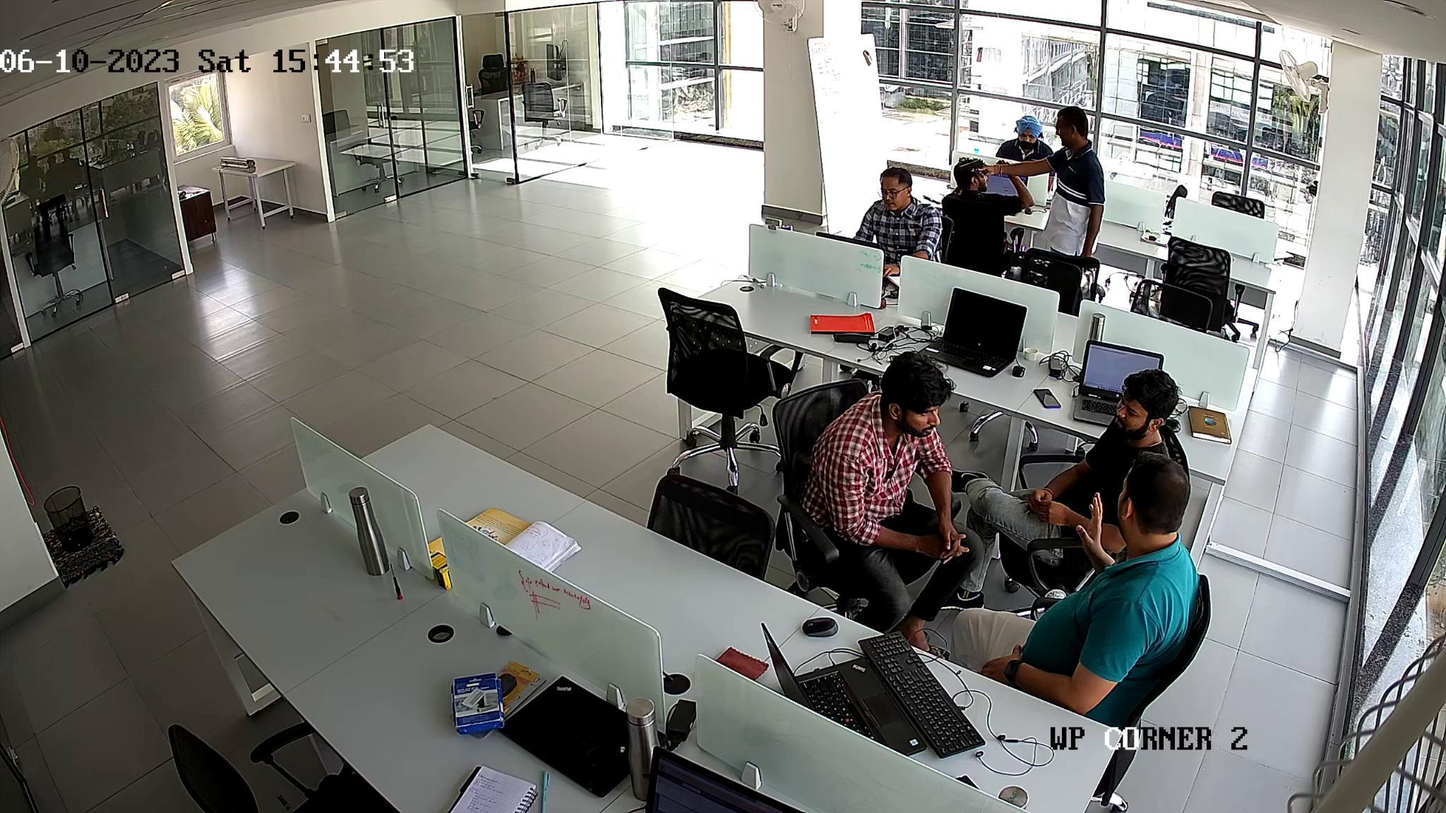gun: (958, 160, 988, 176)
